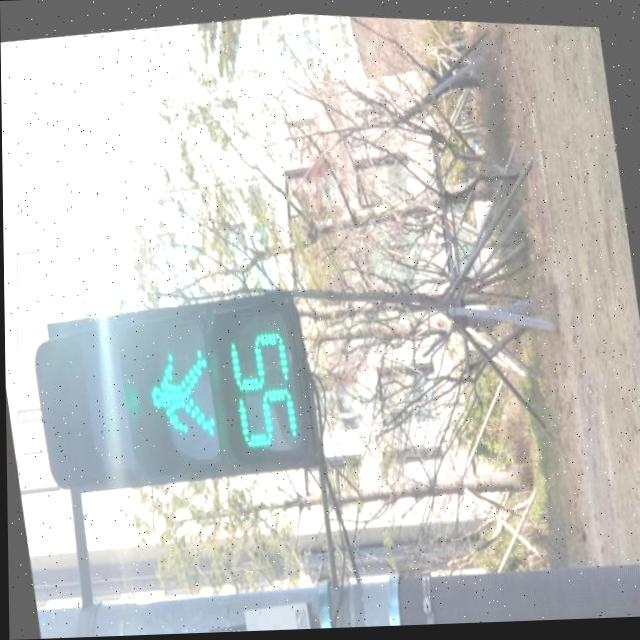green_light: (130, 304, 311, 477)
